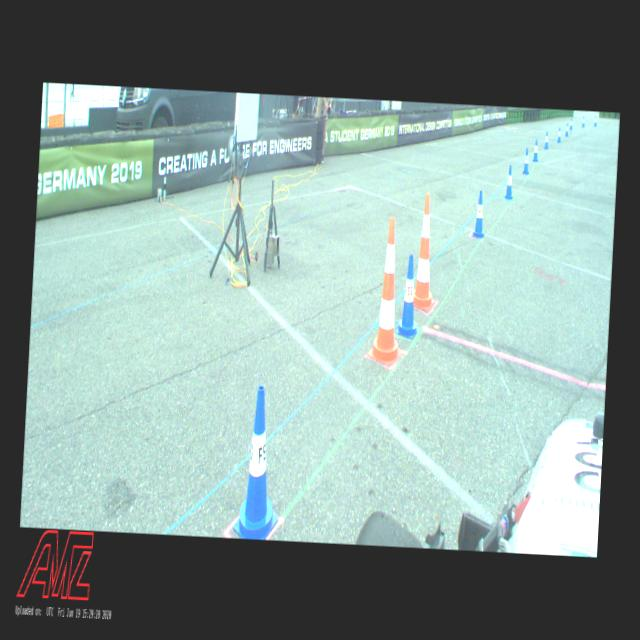blue_cone: (233, 384, 285, 541), (396, 253, 422, 339), (471, 190, 486, 239), (504, 164, 514, 200), (522, 148, 530, 175), (532, 140, 539, 162), (544, 132, 549, 150), (558, 127, 562, 143), (566, 123, 570, 136), (594, 115, 597, 126), (570, 119, 572, 130), (582, 116, 584, 127)
large_orange_cone: (368, 218, 408, 366), (412, 193, 440, 310)
